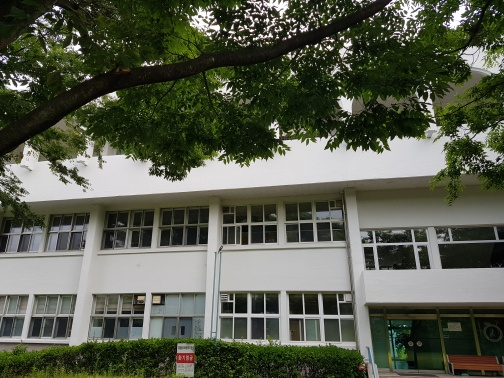Main Building of University: (29, 150, 499, 359)
